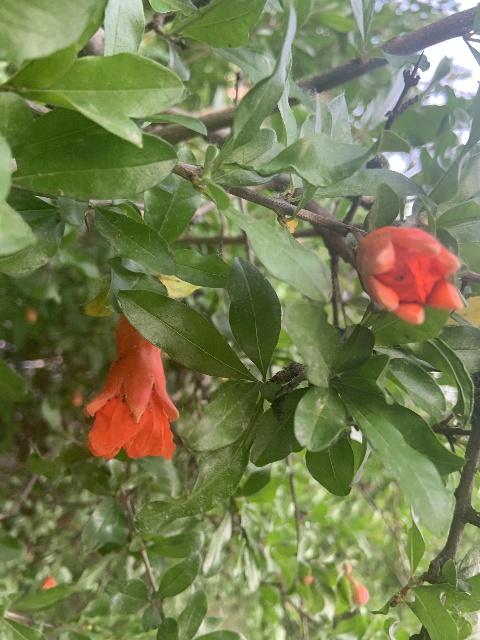bud: (346, 573, 369, 604)
flower: (83, 313, 179, 460), (356, 225, 464, 324)
